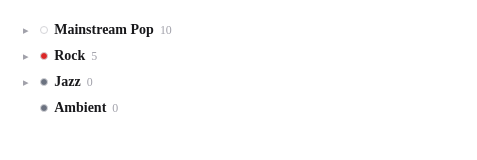
Test case: GenreTreeOutline › hides the panel actions once a reparent starts with the panel open
Click the button with class "gtv-outline-name" showing "Rock". click: (70, 56)
box: [54,48,85,64]
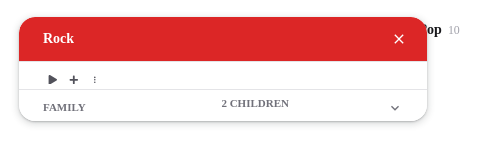
Now the button named "play" is shown, box [43,70,62,89]
